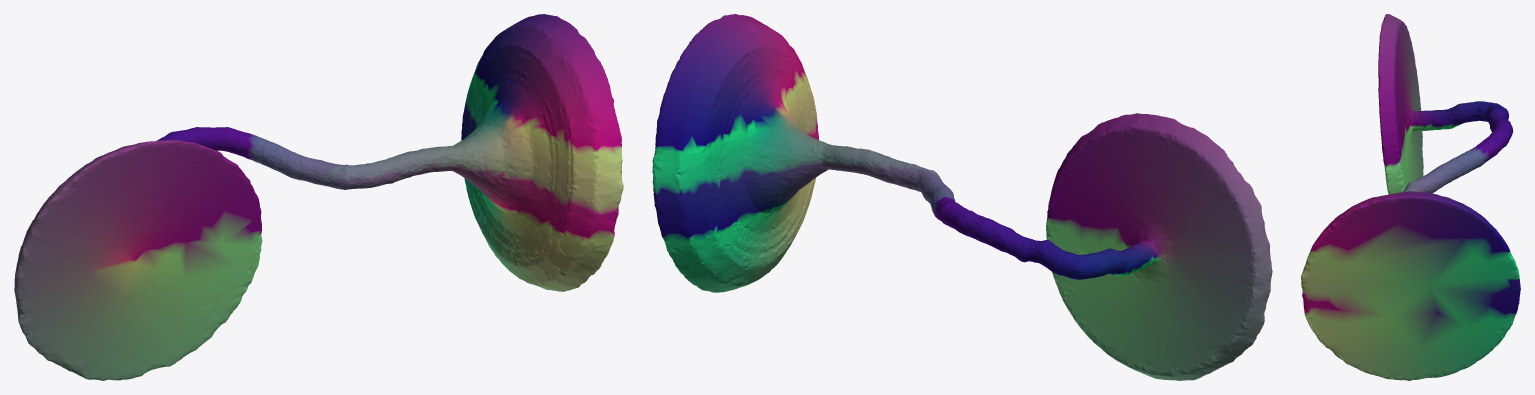
File: lamp-4.off.obj
3 views of the same model, side by side, from view 1: azimuth 30°, elevation 25°; view 2: azimuth 150°, elevation 25°; view 3: azimuth 270°, elevation 25° (orthographic). The views are drawn at different scales.
Bounding box in the file's own units: 1.56 × 0.6686 × 0.6686.
